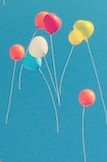Balloon: (29, 36, 48, 57), (44, 13, 62, 33), (78, 89, 96, 106), (9, 44, 24, 61), (68, 30, 83, 46)
